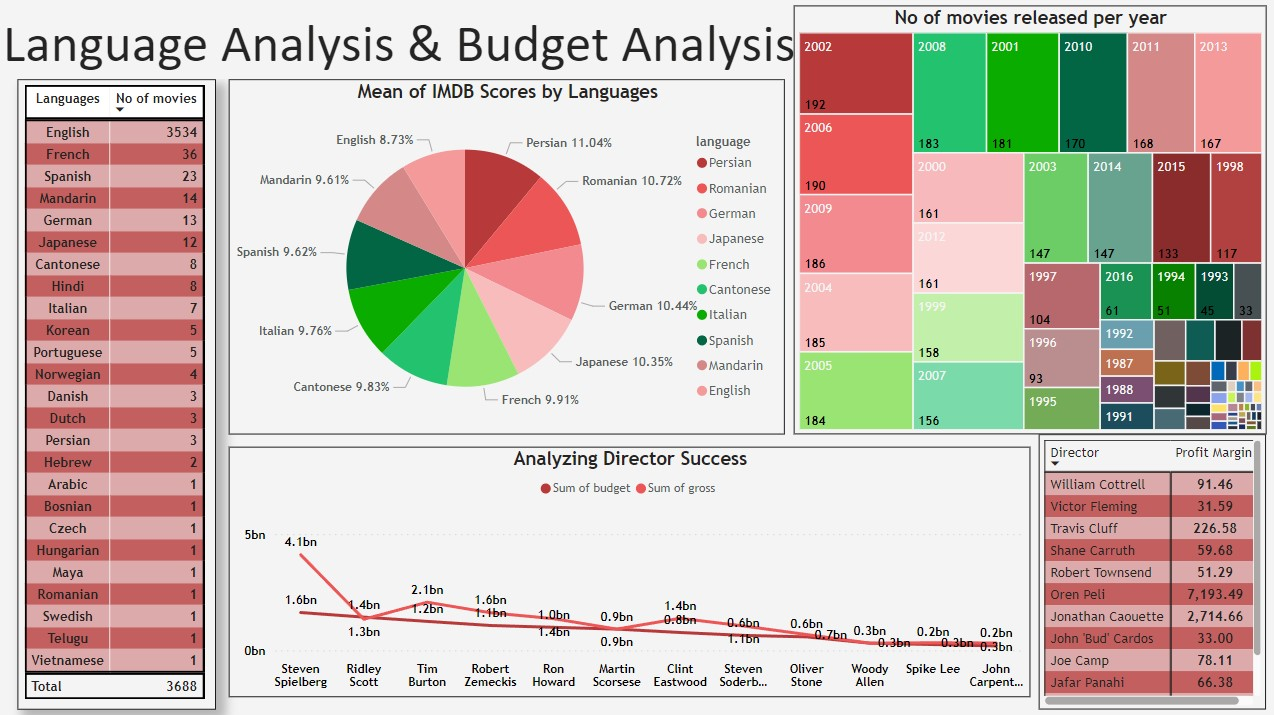

Layout of this report page (visuals, bound fields, positions):
{"tool":"powerbi","page":{"name":"Language Analysis & Budget Analysis","canvas":[1280,720],"ordinal":3},"visuals":[{"type":"tableEx","fields":{"Values":["IMDB_Movies.language","IMDB_Movies.movie_title"]},"box":[22.5,81.2,198.8,630],"z":0},{"type":"pieChart","title":"Mean of IMDB Scores by  Languages","fields":{"Category":["IMDB_Movies.language"],"Y":["IMDB_Movies.Mean: AverageIMDBScore"]},"box":[233.8,81.2,556.2,355],"z":1000},{"type":"textbox","box":[0,7.5,816.2,73.8],"z":2000},{"type":"lineChart","title":"Analyzing Director Success","fields":{"Y":["IMDB_Movies.budget","IMDB_Movies.gross"],"Category":["IMDB_Movies.director_name"]},"box":[233.8,448.8,801.2,250],"z":3000},{"type":"pivotTable","fields":{"Values":["IMDB_Movies.Profit Margin"],"Rows":["IMDB_Movies.director_name"]},"box":[1043.8,436.2,227.5,275],"z":4000},{"type":"treemap","title":"No of movies released per year","fields":{"Group":["IMDB_Movies.title_year"],"Values":["IMDB_Movies.movie_title"]},"box":[798.8,7.5,472.5,428.8],"z":5000}]}

Visuals, with their boxes in screenshot pixels (x1, y1, x2, y2), scaled from the page's 1280x720 canvas onto the 1274x715 screenshot:
tableEx - IMDB_Movies.language x IMDB_Movies.movie_title: rect(22, 81, 220, 706)
"Mean of IMDB Scores by  Languages" pieChart: rect(233, 81, 786, 433)
textbox: rect(0, 7, 812, 81)
"Analyzing Director Success" lineChart: rect(233, 446, 1030, 694)
pivotTable - IMDB_Movies.Profit Margin x IMDB_Movies.director_name: rect(1039, 433, 1265, 706)
"No of movies released per year" treemap: rect(795, 7, 1265, 433)
